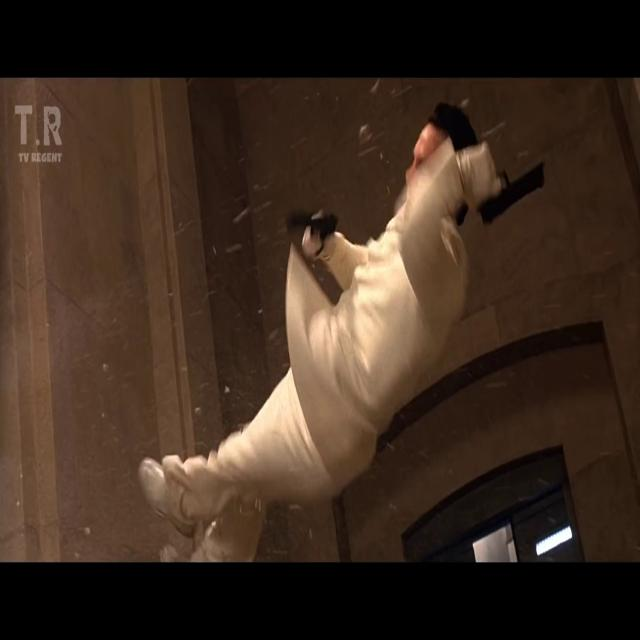handgun: (470, 144, 562, 252), (282, 202, 347, 281)
